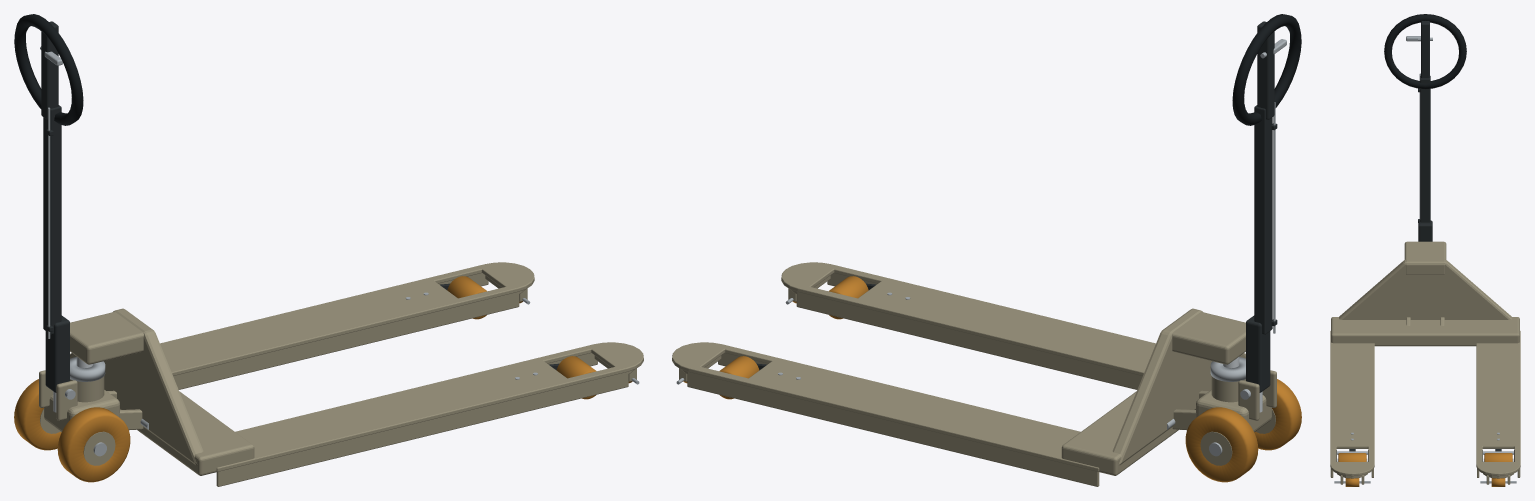
The picture shows the model from 3 angles, left to right: view 1: azimuth 30°, elevation 25°; view 2: azimuth 150°, elevation 25°; view 3: azimuth 270°, elevation 25°; orthographic projection. The views are drawn at different scales.
Visible parts, largest first — view 1: Fork top plate -1, Fork top plate 1, Fork channel sidewall (-1, -1), Raised triangular fork frame, Fork channel sidewall (1, -1), Tall tiller stem, Large steer wheel -1, Rear fork cross bridge, Ram upper saddle, Open oval tiller hand grip, Large steer wheel 1, Lower reinforced tiller (+4 smaller); view 2: Fork top plate 1, Fork top plate -1, Fork channel sidewall (1, 1), Raised triangular fork frame, Fork channel sidewall (-1, 1), Tall tiller stem, Large steer wheel 1, Rear fork cross bridge, Ram upper saddle, Open oval tiller hand grip, Large steer wheel -1, Lower reinforced tiller (+3 smaller); view 3: Raised triangular fork frame, Fork top plate -1, Fork top plate 1, Rear fork cross bridge, Open oval tiller hand grip, Tall tiller stem, Ram upper saddle, Grip central stem, Lower reinforced tiller, Release linkage rod, Load wheel -1, Load wheel 1.
Boxes of the visible parts, bbox=[...] form: Fork top plate -1: bbox=[216, 342, 643, 471]; Fork top plate 1: bbox=[160, 262, 534, 375]; Fork channel sidewall (-1, -1): bbox=[216, 371, 628, 486]; Raised triangular fork frame: bbox=[70, 308, 203, 465]; Fork channel sidewall (1, -1): bbox=[173, 291, 519, 389]; Tall tiller stem: bbox=[43, 105, 61, 334]; Large steer wheel -1: bbox=[57, 407, 130, 482]; Rear fork cross bridge: bbox=[70, 353, 254, 475]; Ram upper saddle: bbox=[70, 312, 143, 364]; Open oval tiller hand grip: bbox=[14, 14, 83, 125]; Large steer wheel 1: bbox=[14, 379, 61, 450]; Lower reinforced tiller: bbox=[45, 315, 69, 392]; Fork top plate 1: bbox=[672, 342, 1099, 471]; Fork top plate -1: bbox=[781, 262, 1155, 375]; Fork channel sidewall (1, 1): bbox=[687, 371, 1099, 486]; Raised triangular fork frame: bbox=[1112, 308, 1245, 465]; Fork channel sidewall (-1, 1): bbox=[796, 291, 1142, 389]; Tall tiller stem: bbox=[1254, 105, 1272, 334]; Large steer wheel 1: bbox=[1185, 407, 1258, 482]; Rear fork cross bridge: bbox=[1061, 353, 1245, 475]; Ram upper saddle: bbox=[1172, 312, 1245, 364]; Open oval tiller hand grip: bbox=[1232, 14, 1301, 125]; Large steer wheel -1: bbox=[1254, 379, 1301, 450]; Lower reinforced tiller: bbox=[1246, 315, 1270, 392]; Raised triangular fork frame: bbox=[1339, 259, 1511, 319]; Fork top plate -1: bbox=[1330, 331, 1374, 476]; Fork top plate 1: bbox=[1476, 331, 1520, 476]; Rear fork cross bridge: bbox=[1331, 317, 1519, 346]; Open oval tiller hand grip: bbox=[1384, 14, 1466, 88]; Tall tiller stem: bbox=[1420, 76, 1430, 222]; Ram upper saddle: bbox=[1404, 241, 1446, 274]; Grip central stem: bbox=[1421, 21, 1429, 78]; Lower reinforced tiller: bbox=[1418, 220, 1432, 241]; Release linkage rod: bbox=[1419, 73, 1420, 219]; Load wheel -1: bbox=[1338, 453, 1366, 461]; Load wheel 1: bbox=[1484, 453, 1512, 461].
Bounding box in the file's own units: 152 × 120 × 68.58.
